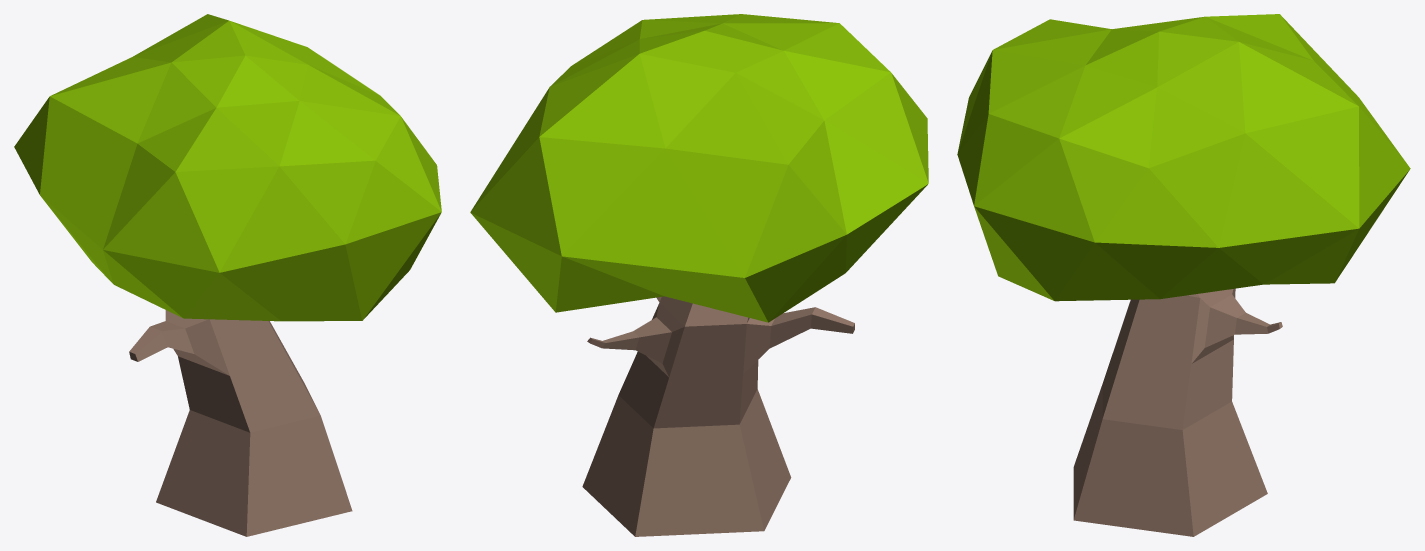
The model's file is tree_1_tall.glb.
3 views of the same model, side by side, from view 1: azimuth 30°, elevation 25°; view 2: azimuth 150°, elevation 25°; view 3: azimuth 270°, elevation 25° (orthographic). The views are drawn at different scales.
Visible parts, largest first — view 1: Circle.002; view 2: Circle.002; view 3: Circle.002.
Part boxes in pixels (x1,y1,x2,y2): Circle.002: [14, 14, 441, 536]; Circle.002: [470, 14, 928, 536]; Circle.002: [957, 14, 1410, 536].
Bounding box in the file's own units: 1.16 × 1.45 × 1.31.
